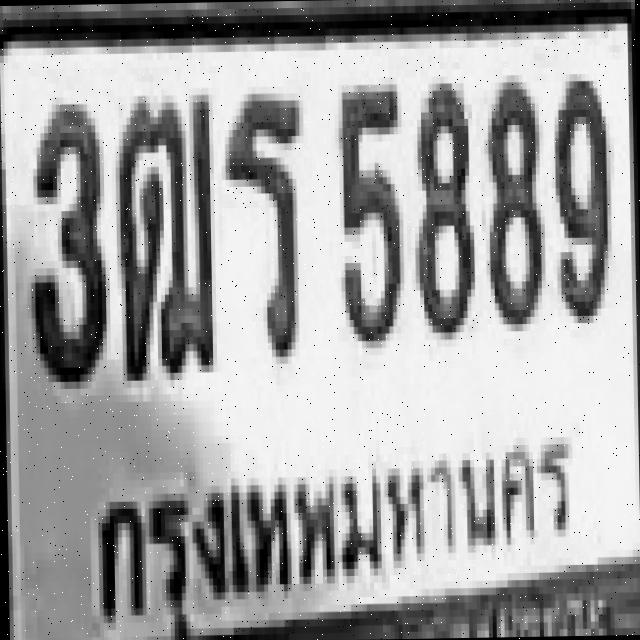27ThorPhuThao: (114, 87, 213, 373)
3: (24, 96, 103, 382)
44RorRuea: (220, 86, 303, 357)
5: (333, 77, 401, 341)
8: (412, 75, 471, 332), (483, 74, 542, 324)
9: (550, 73, 608, 316)
Bangkok: (80, 398, 585, 640)
